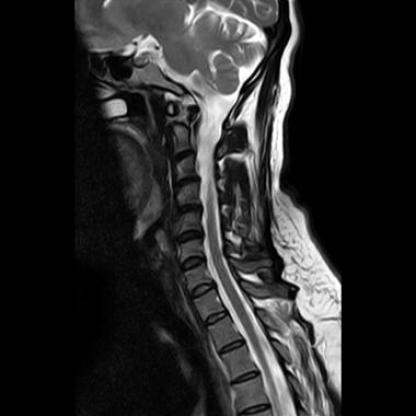Disc Bulgerotation: (180, 256, 209, 272), (174, 228, 203, 244)
Osteophytesrotation: (180, 255, 209, 271), (174, 228, 203, 244)
